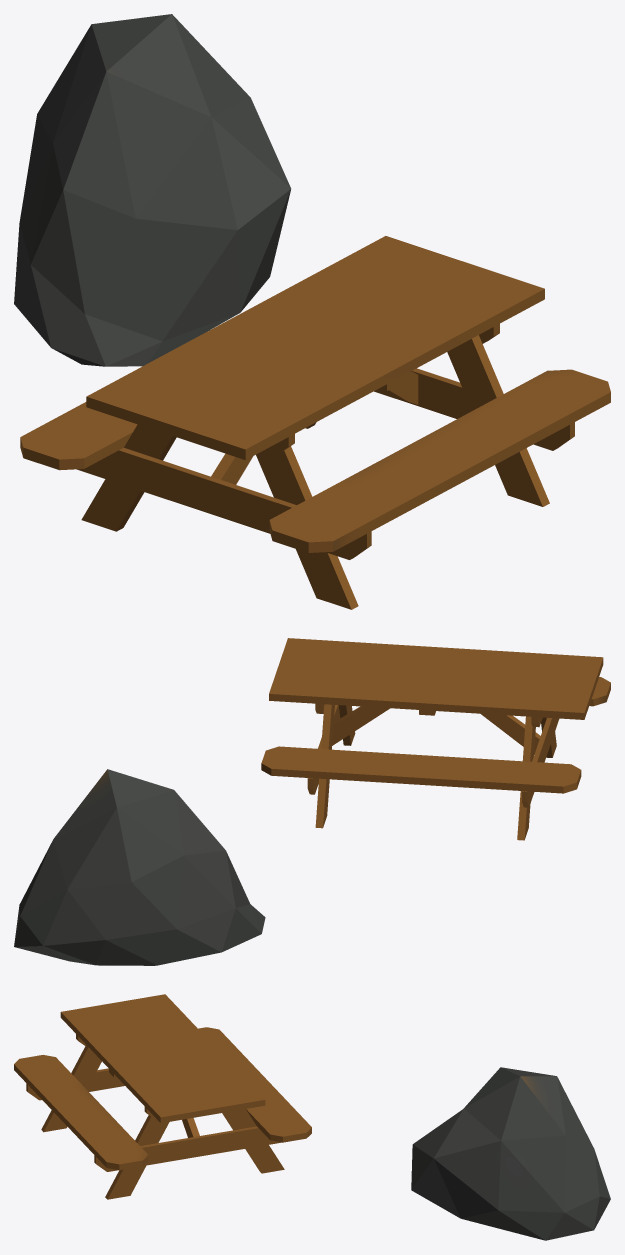
File: BenchRock.obj
3 views of the same model, one above another, from view 1: azimuth 30°, elevation 25°; view 2: azimuth 150°, elevation 25°; view 3: azimuth 270°, elevation 25° (orthographic). The views are drawn at different scales.
Parts seen in each view (by area): view 1: Norm_Rock_1_Icosphere.003; view 2: Norm_Rock_1_Icosphere.003; view 3: Norm_Rock_1_Icosphere.003.
Boxes of the visible parts, x1,y1,x2,y2 form: Norm_Rock_1_Icosphere.003: (14,14,610,609); Norm_Rock_1_Icosphere.003: (14,638,610,965); Norm_Rock_1_Icosphere.003: (14,994,610,1240).
Size of the model in its own units: 13.15 by 6.15 by 23.11.
